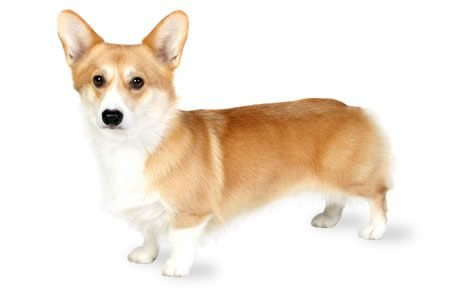dog: (52, 10, 393, 279)
